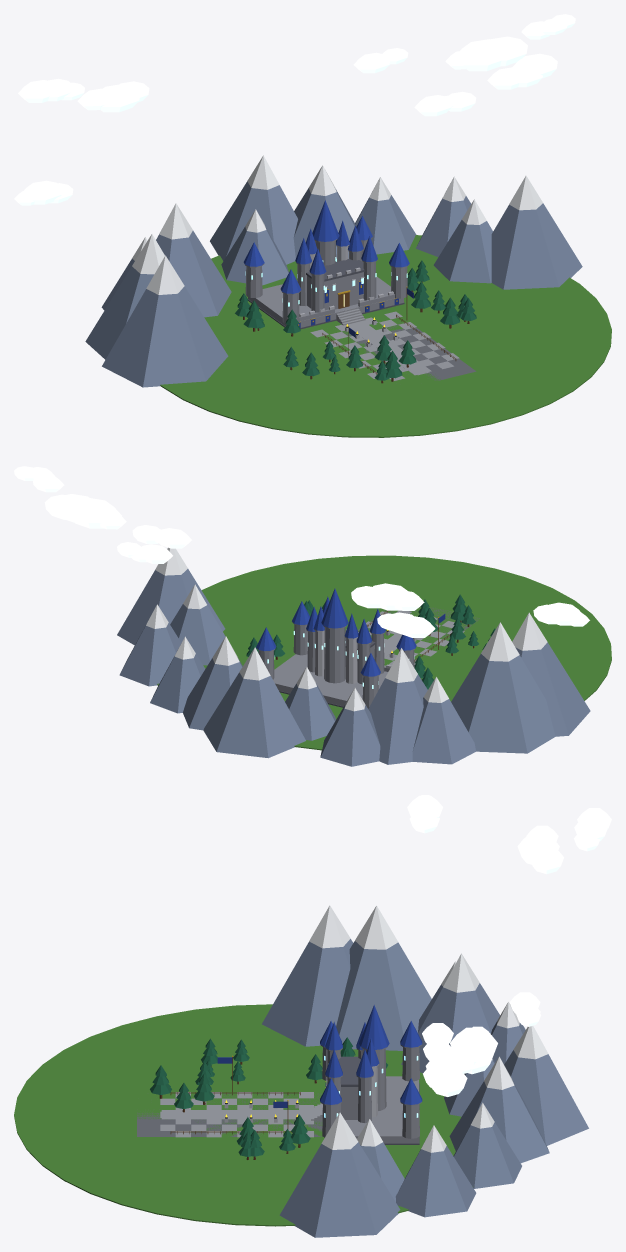
File: castelo-eldoria.glb
3 views of the same model, one above another, from view 1: azimuth 30°, elevation 25°; view 2: azimuth 150°, elevation 25°; view 3: azimuth 270°, elevation 25° (orthographic). The views are drawn at different scales.
Parts seen in each view (by area): view 1: Chao, Montanhas, Nuvens, Torres, Arvores, Castelo; view 2: Montanhas, Chao, Nuvens, Torres, Castelo, Arvores; view 3: Chao, Montanhas, Nuvens, Torres, Arvores, Castelo.
Boxes of the visible parts, <box> form: Chao: <box>160,235,611,437</box>; Montanhas: <box>85,155,582,387</box>; Nuvens: <box>14,14,575,205</box>; Torres: <box>243,200,409,324</box>; Arvores: <box>235,260,476,383</box>; Castelo: <box>248,259,404,329</box>; Montanhas: <box>117,547,590,766</box>; Chao: <box>157,555,611,750</box>; Nuvens: <box>14,466,589,637</box>; Torres: <box>256,588,416,706</box>; Castelo: <box>273,629,391,708</box>; Arvores: <box>246,594,495,689</box>; Chao: <box>14,1004,461,1226</box>; Montanhas: <box>262,905,588,1237</box>; Nuvens: <box>407,795,611,1096</box>; Torres: <box>320,1005,422,1138</box>; Arvores: <box>150,1037,387,1159</box>; Castelo: <box>326,1056,419,1144</box>.
Size of the model in its own units: 117 by 37.33 by 97.11.
